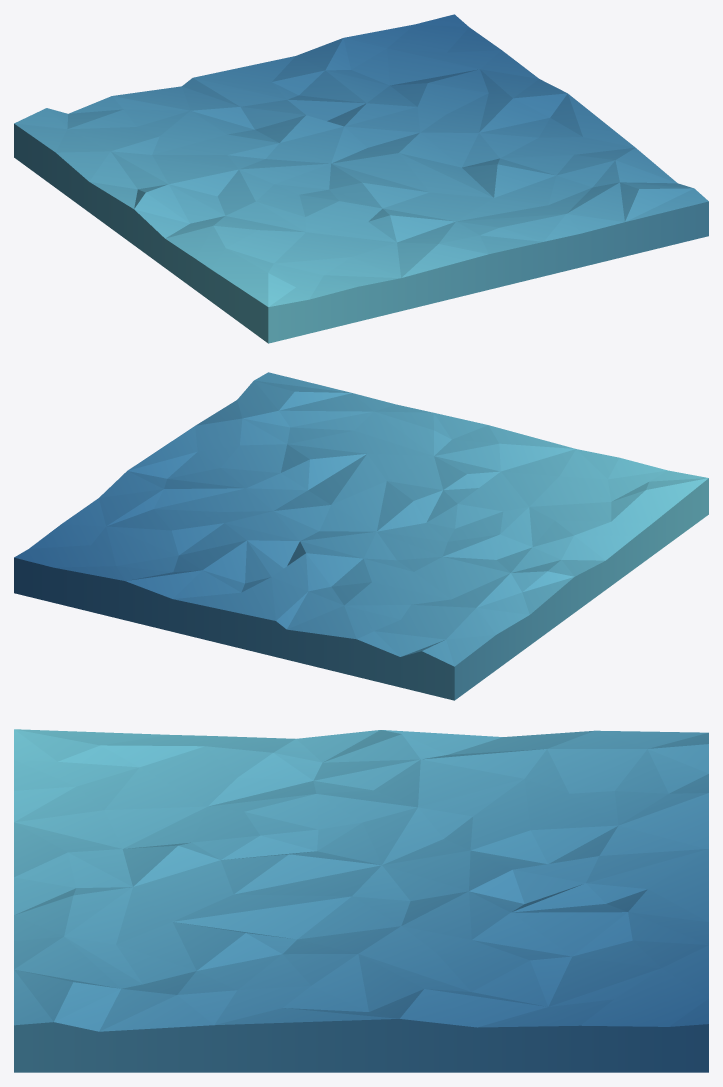
The model's file is water location desert pyramids.fbx.
3 renders of one model, top to bottom at view 1: azimuth 30°, elevation 25°; view 2: azimuth 150°, elevation 25°; view 3: azimuth 270°, elevation 25°, orthographic. The views are drawn at different scales.
Parts seen in each view (by area): view 1: water location desert pyramids; view 2: water location desert pyramids; view 3: water location desert pyramids.
Part boxes in pixels (box(x1,y1,x2,y2)): water location desert pyramids: box(14, 14, 708, 343); water location desert pyramids: box(14, 372, 708, 700); water location desert pyramids: box(14, 729, 708, 1072).
Size of the model in its own units: 4400 by 409 by 4400.
